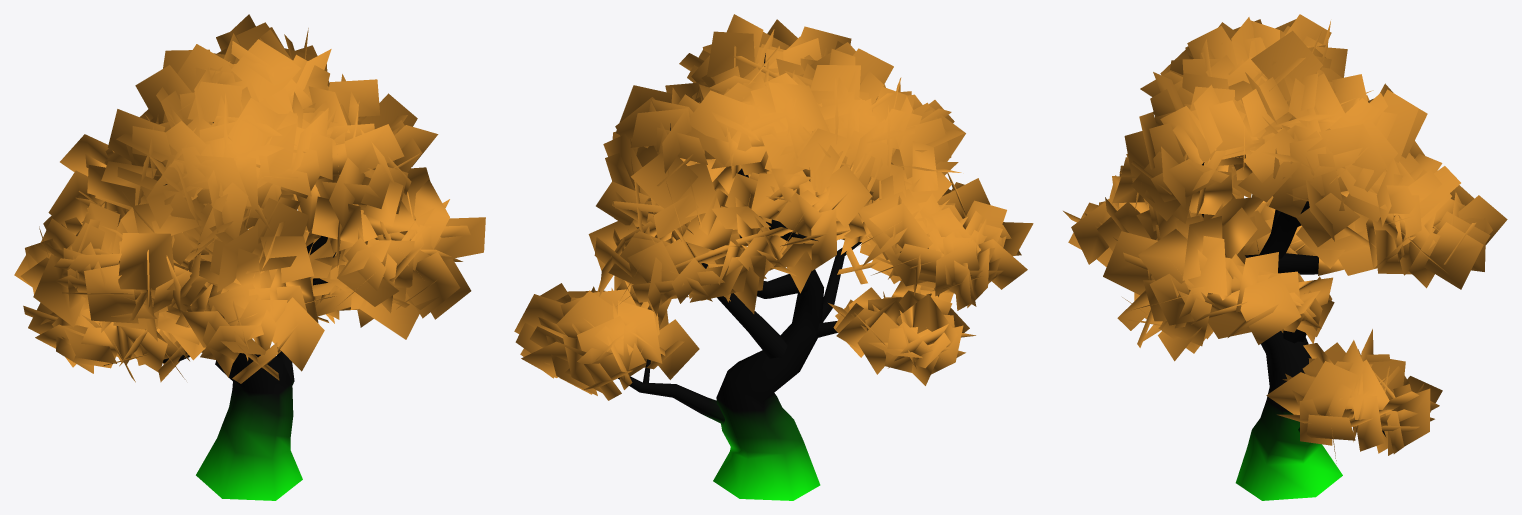
Rendered from SM_KnotwoodTree03.fbx.
3 renders of one model, left to right at view 1: azimuth 30°, elevation 25°; view 2: azimuth 150°, elevation 25°; view 3: azimuth 270°, elevation 25°, orthographic.
Visible parts, largest first — view 1: SM_KnotwoodTree03_LOD0; view 2: SM_KnotwoodTree03_LOD0; view 3: SM_KnotwoodTree03_LOD0.
Part boxes in pixels (box(x1,y1,x2,y2)): SM_KnotwoodTree03_LOD0: box(14, 14, 485, 500); SM_KnotwoodTree03_LOD0: box(514, 14, 1033, 500); SM_KnotwoodTree03_LOD0: box(1063, 14, 1507, 500).
Size of what is drawn, in the model's own units: 2387 by 2276 by 2063.
